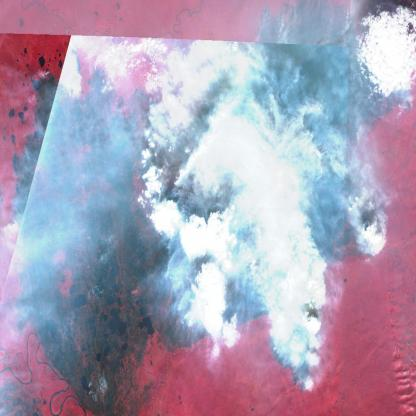fire: (38, 54, 395, 397)
